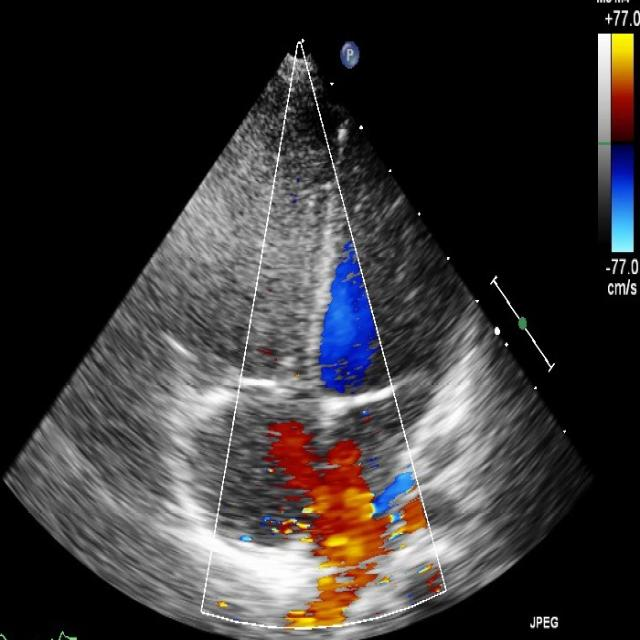ASDType2: (269, 402, 418, 626)
